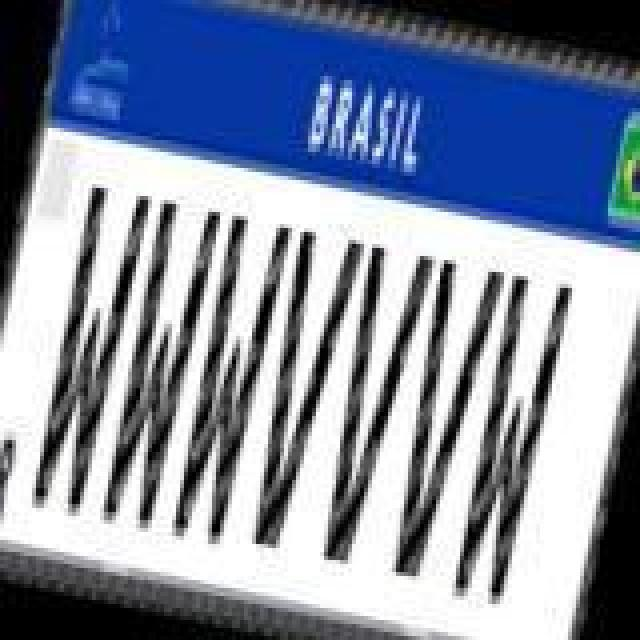V: (300, 236, 436, 572), (372, 252, 508, 588), (234, 224, 366, 560)
W: (160, 212, 296, 556), (22, 180, 154, 524), (90, 196, 222, 540), (442, 268, 574, 612)
